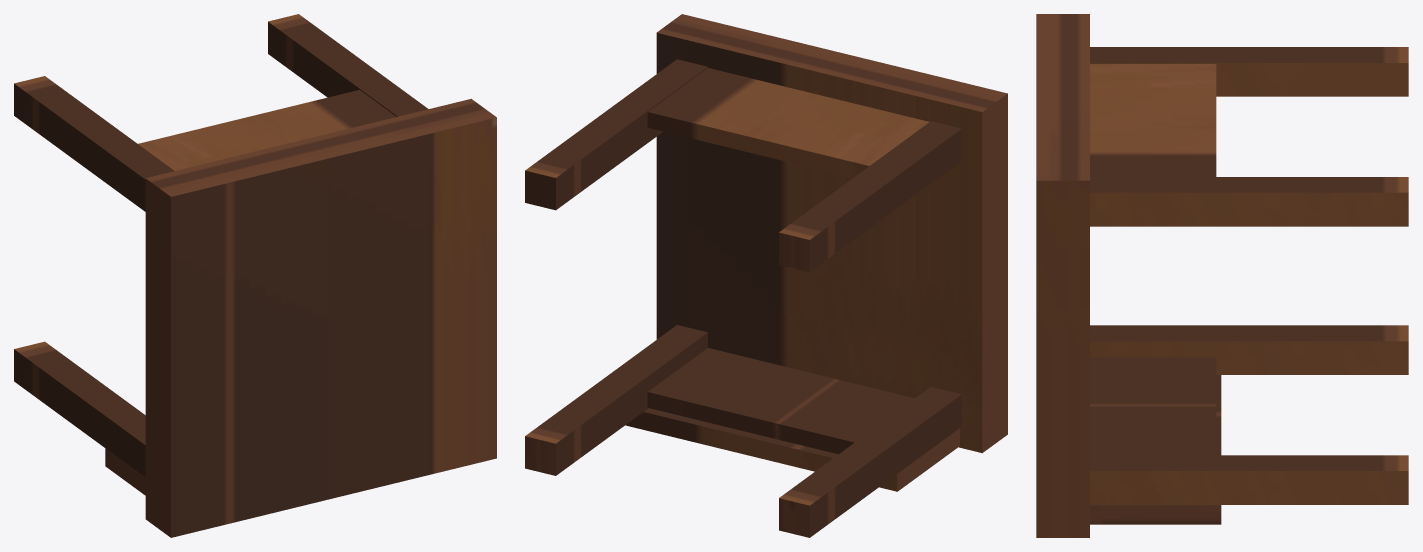
Rendered from pz_table_storage_01_small_mattress_height.obj.
The picture shows the model from 3 angles, left to right: view 1: azimuth 30°, elevation 25°; view 2: azimuth 150°, elevation 25°; view 3: azimuth 270°, elevation 25°; orthographic projection. The views are drawn at different scales.
Size of the model in its own units: 0.625 by 0.625 by 0.59.
Materials: 1 (1 with a texture image).
